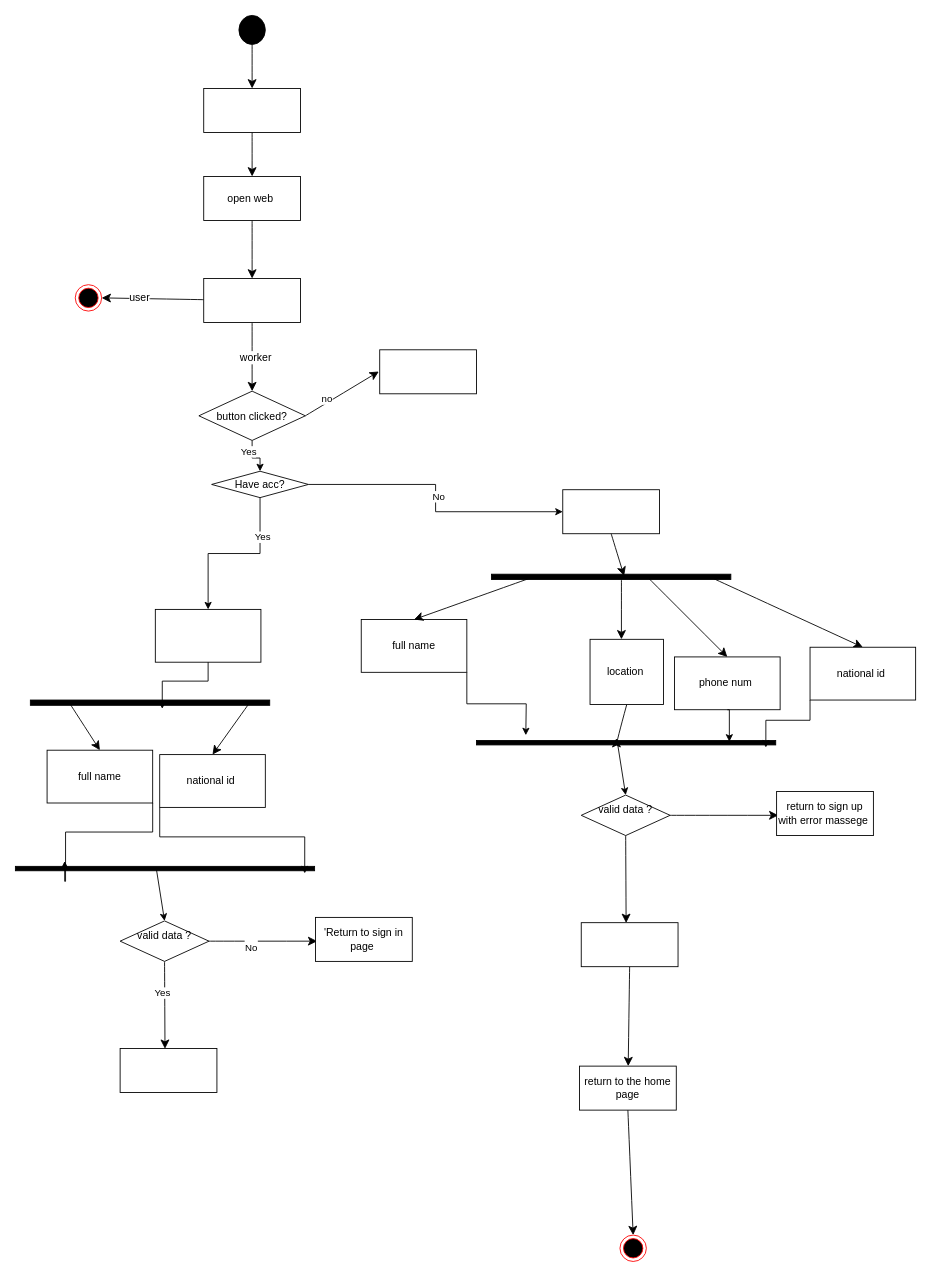
The diagram is 931 pixels wide and 1277 high, and some of its shapes have lost their labels. The shapes that lost their labels are listed below. From the top down, each one's box as (x1, y1, x2, y2) in pixels, then its label:
(203, 88, 301, 132): open browser
(203, 278, 301, 323): home page
(379, 349, 477, 394): choose the worker
(562, 489, 660, 534): sign up
(154, 609, 261, 662): login
(580, 922, 678, 967): poste some of his work
(119, 1048, 217, 1093): Return to home page
